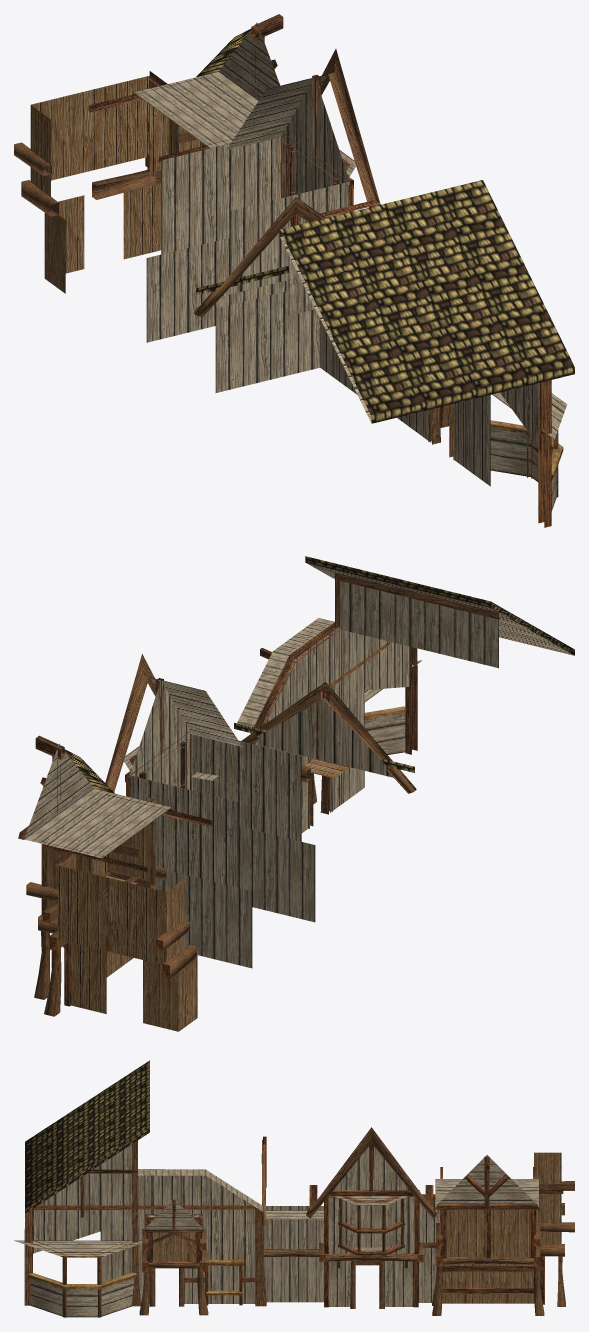
The model's file is LAKETOWN_EXTERIOR_PS_LT_PUBBLOCK99__GX.fbx.
3 views of the same model, one above another, from view 1: azimuth 30°, elevation 25°; view 2: azimuth 150°, elevation 25°; view 3: azimuth 270°, elevation 25° (orthographic). The views are drawn at different scales.
Parts seen in each view (by area): view 1: LAKETOWN_EXTERIOR_PS_LT_PUBBLOCK99__GX; view 2: LAKETOWN_EXTERIOR_PS_LT_PUBBLOCK99__GX; view 3: LAKETOWN_EXTERIOR_PS_LT_PUBBLOCK99__GX.
Boxes of the visible parts, box(x1,y1,x2,y2) form: LAKETOWN_EXTERIOR_PS_LT_PUBBLOCK99__GX: box(14, 14, 574, 527); LAKETOWN_EXTERIOR_PS_LT_PUBBLOCK99__GX: box(18, 556, 574, 1031); LAKETOWN_EXTERIOR_PS_LT_PUBBLOCK99__GX: box(14, 1060, 574, 1317).
Size of the model in its own units: 94395 by 101721 by 269584.
Materials: 12 (12 with a texture image).
